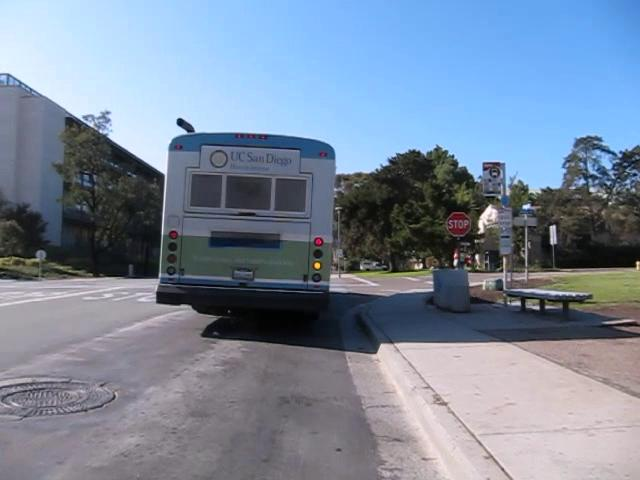stop: (446, 211, 471, 237)
